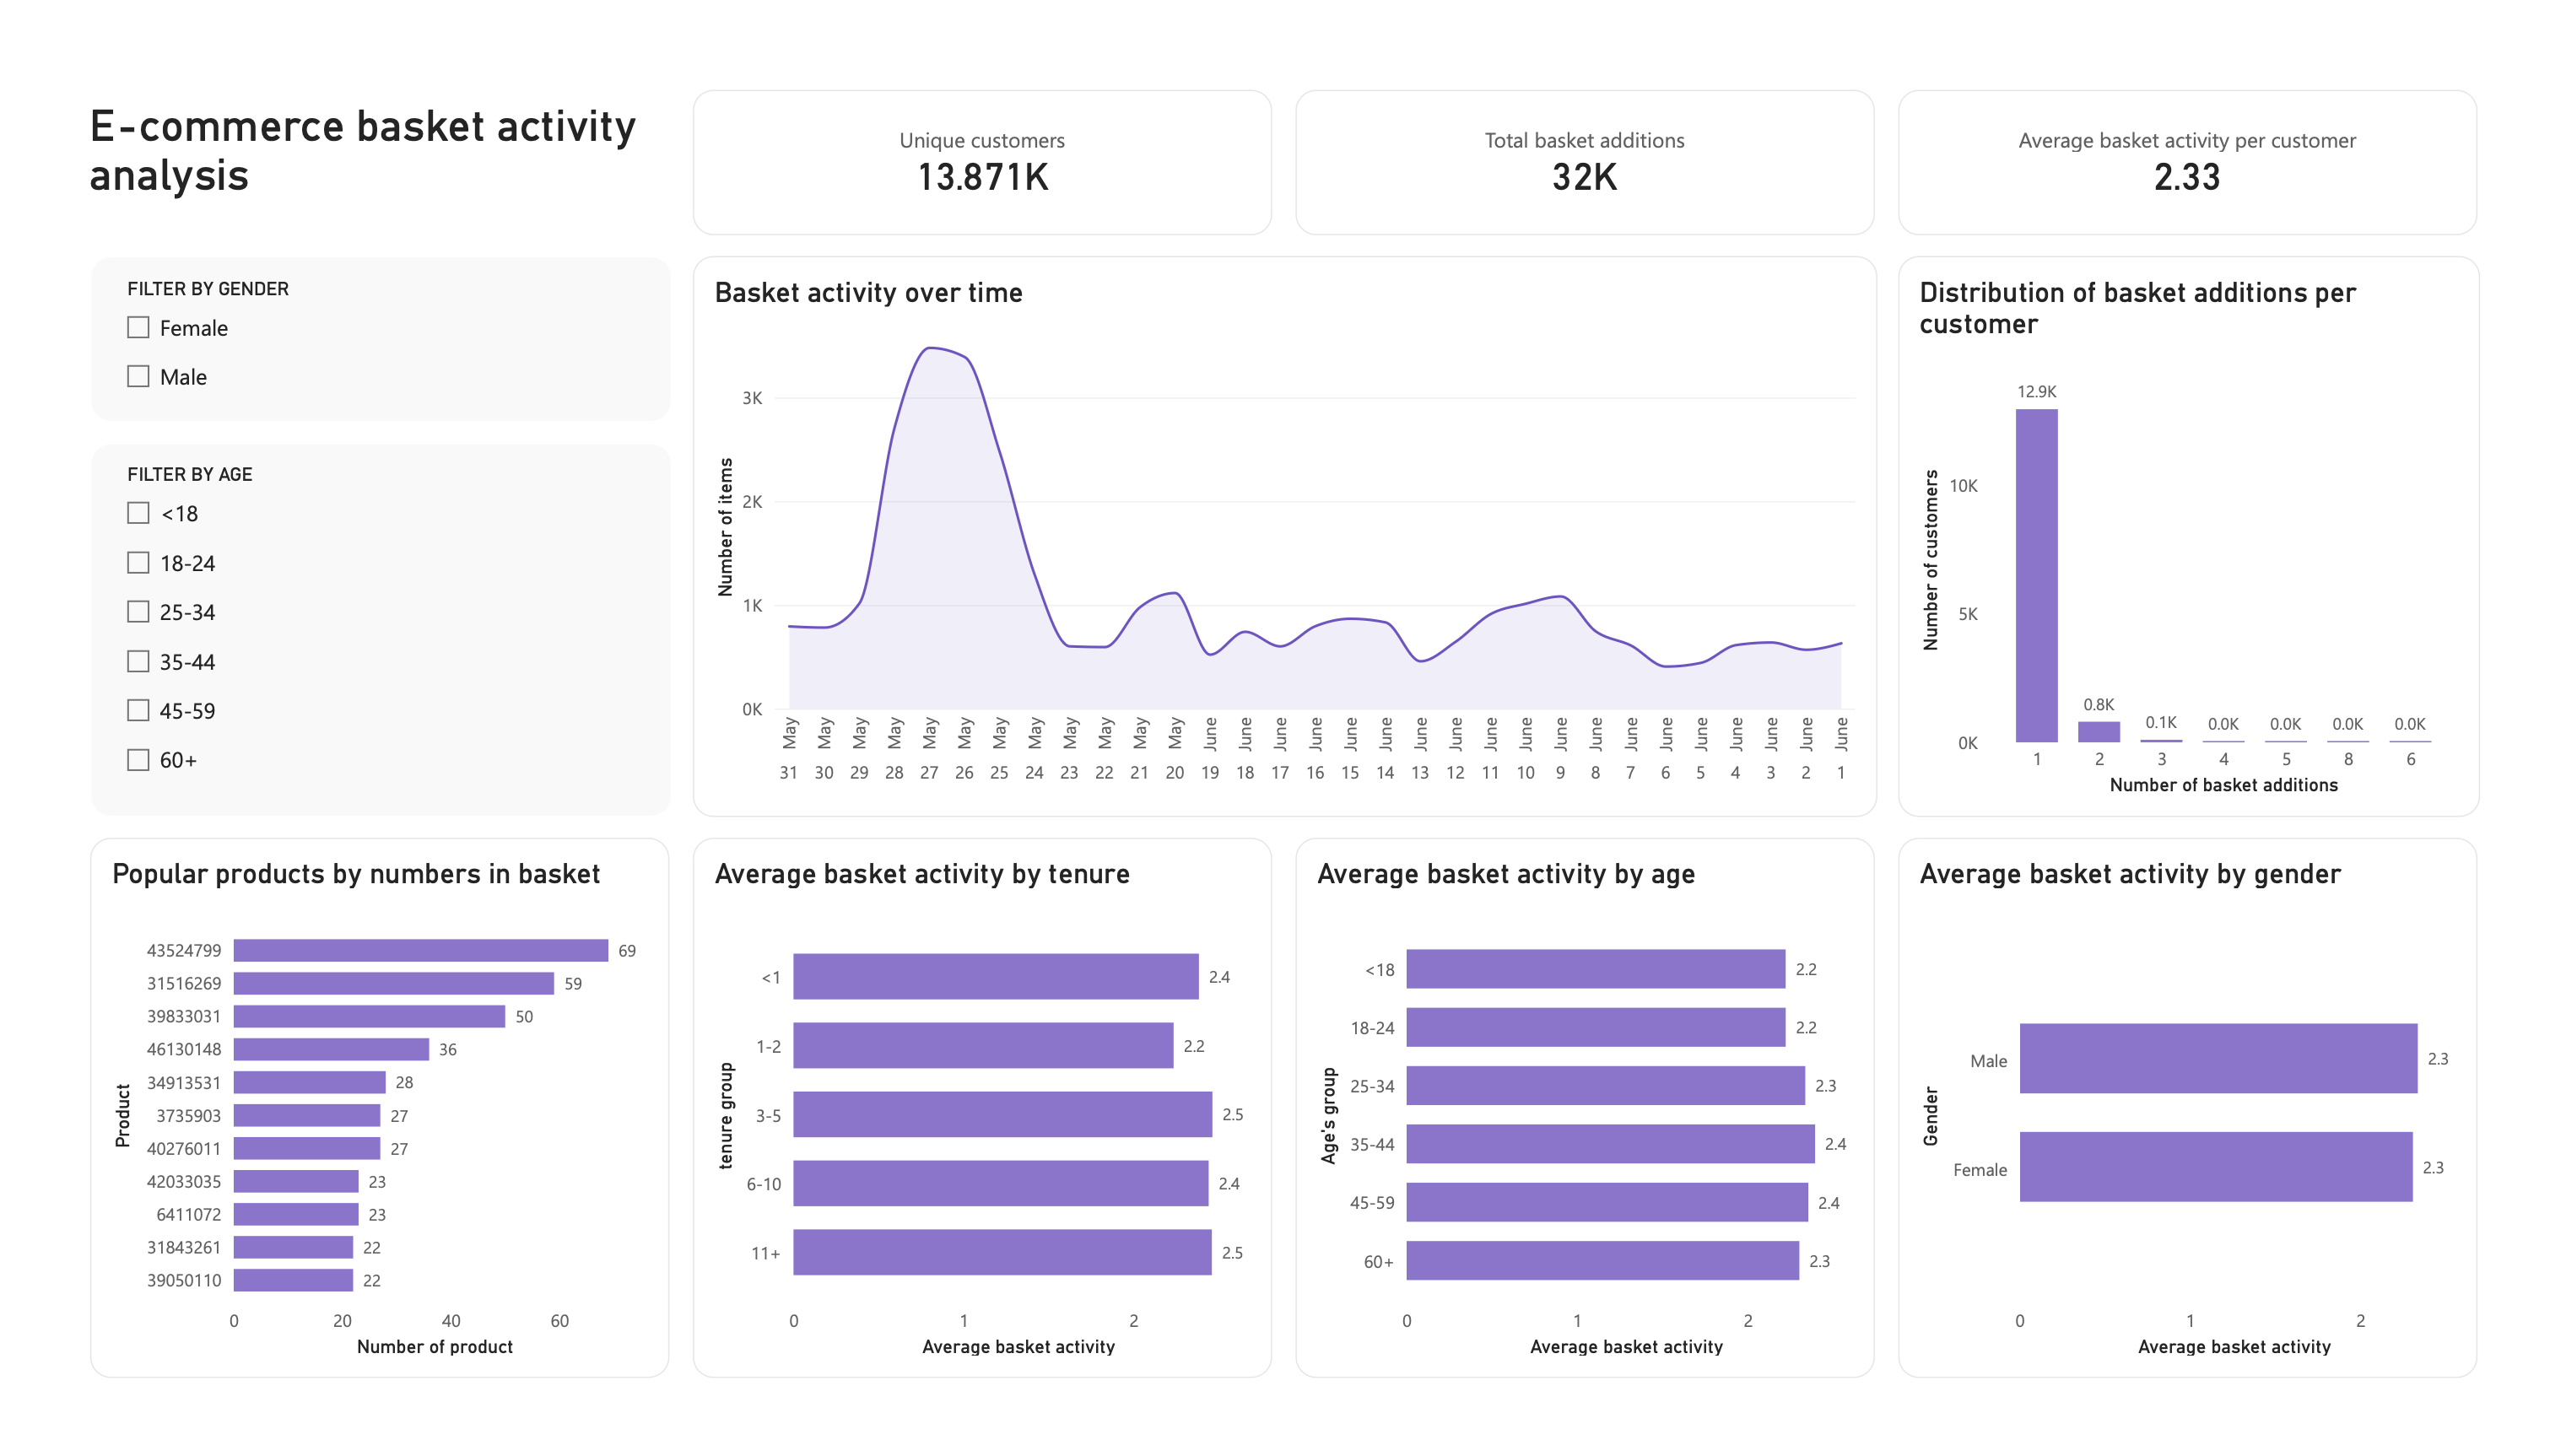

The dashboard page shown, as its layout file describes it:
{"tool":"powerbi","page":{"name":"Customer","canvas":[1920,1080],"ordinal":0},"visuals":[{"type":"columnChart","title":"Distribution of basket additions per customer","fields":{"Category":["busket add by user.add"],"Y":["Sum(busket add by user.num_cust)"]},"box":[1440,176,448,432],"z":0},{"type":"barChart","title":"Average basket activity by gender","fields":{"Category":["ecommerce_clean.sex"],"Y":["for measures.Avg Basket Activity"]},"box":[1440,624,446,416],"z":1000},{"type":"clusteredBarChart","title":"Average basket activity by age","fields":{"Category":["ecommerce_clean.age_group"],"Y":["for measures.Avg Basket Activity"]},"box":[976,624,446,416],"z":2000},{"type":"clusteredBarChart","title":"Average basket activity by tenure","fields":{"Category":["ecommerce_clean.tenure group"],"Y":["for measures.Avg Basket Activity"]},"box":[512,624,446,416],"z":3000},{"type":"barChart","title":"Popular products by numbers in basket","fields":{"Category":["ecommerce_clean.product_id"],"Y":["Sum(ecommerce_clean.basket_count)"]},"box":[48,624,446,416],"z":4000},{"type":"lineChart","title":"Basket activity over time","fields":{"Category":["ecommerce_clean.basket_date.Variation.Date Hierarchy.Day","ecommerce_clean.basket_date.Variation.Date Hierarchy.Month"],"Y":["Sum(ecommerce_clean.basket_count)"]},"box":[512,176,912,432],"z":5000},{"type":"slicer","fields":{"Values":["ecommerce_clean.sex"]},"box":[48,176,448,128],"z":6000},{"type":"slicer","fields":{"Values":["ecommerce_clean.age group"]},"box":[48,320,448,288],"z":7000},{"type":"cardVisual","fields":{"Data":["Count(ecommerce_clean.customer_id)"]},"box":[512,48,446,112],"z":8000},{"type":"cardVisual","fields":{"Data":["Sum(ecommerce_clean.basket_count)"]},"box":[976,48,446,112],"z":9000},{"type":"cardVisual","fields":{"Data":["for measures.Avg Basket Activity"]},"box":[1440,48,446,112],"z":10000},{"type":"textbox","box":[48,56,448,104],"z":11000}]}

Visuals, with their boxes in screenshot pixels (x1, y1, x2, y2), scaled from the page's 1920x1080 canvas onto the 2550x1456 screenshot:
"Distribution of basket additions per customer" columnChart: 1912/237/2508/820
"Average basket activity by gender" barChart: 1912/841/2504/1402
"Average basket activity by age" clusteredBarChart: 1296/841/1888/1402
"Average basket activity by tenure" clusteredBarChart: 680/841/1272/1402
"Popular products by numbers in basket" barChart: 64/841/656/1402
"Basket activity over time" lineChart: 680/237/1891/820
slicer - ecommerce_clean.sex: 64/237/659/410
slicer - ecommerce_clean.age group: 64/431/659/820
cardVisual - Count(ecommerce_clean.customer_id): 680/65/1272/216
cardVisual - Sum(ecommerce_clean.basket_count): 1296/65/1888/216
cardVisual - for measures.Avg Basket Activity: 1912/65/2504/216
textbox: 64/75/659/216
